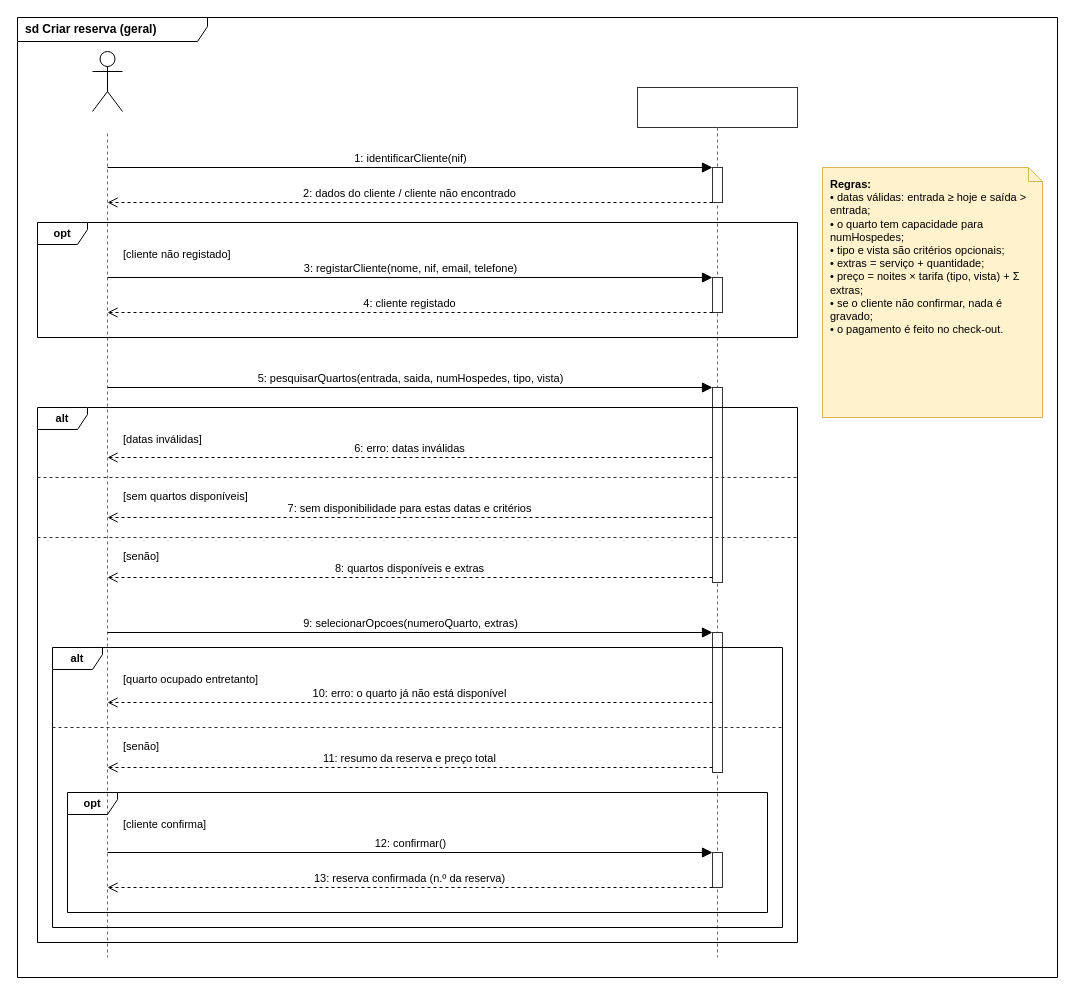
Some shapes in this 1075 by 995 pixel diagram are drawn without their labels. The shapes that lost their labels are listed below. From the top down, each one's centre as x and y in pixels, then its label:
(x=107, y=81): Rececionista
(x=717, y=107): Sistema
